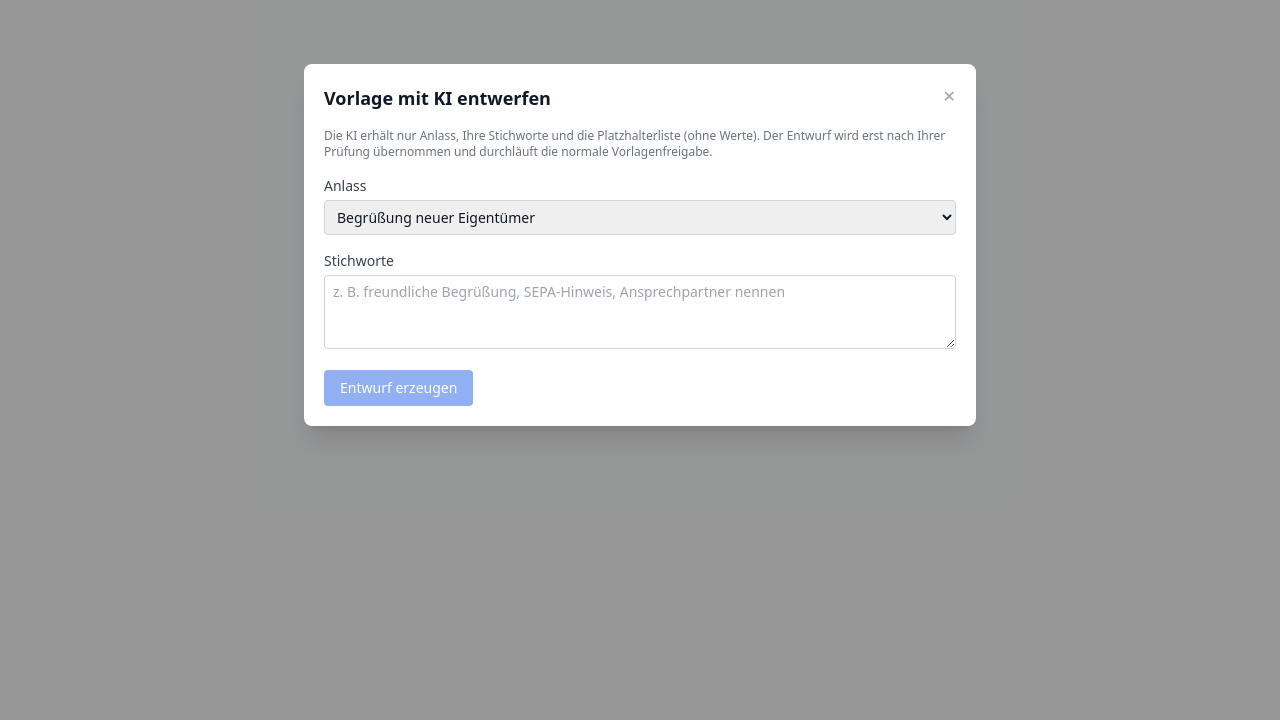
KiAssistentDialog — Mit KI entwerfen › verwirft Blöcke ohne gültige Struktur und weist darauf hin
Type "x" into the text box labelled "Stichworte".
click(640, 312); type("x")  # box [324,275,956,349]
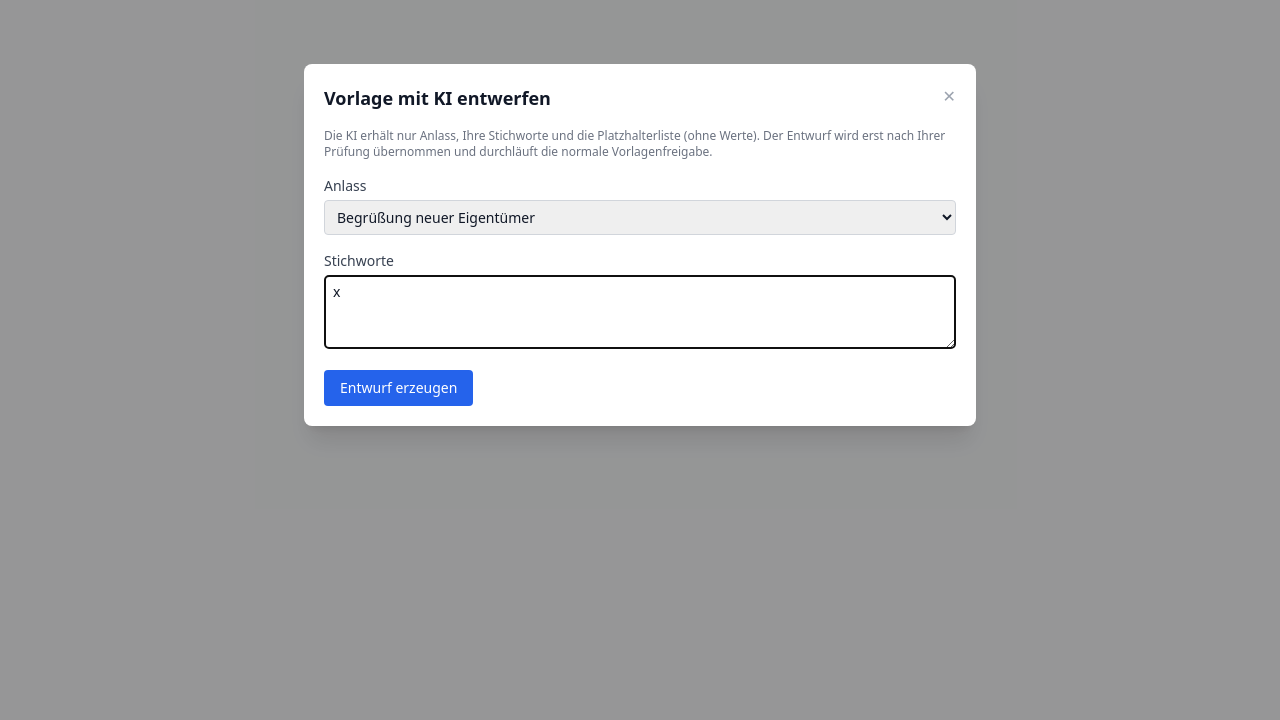
Click the button "Entwurf erzeugen".
click(399, 388)  # box [324,370,473,406]
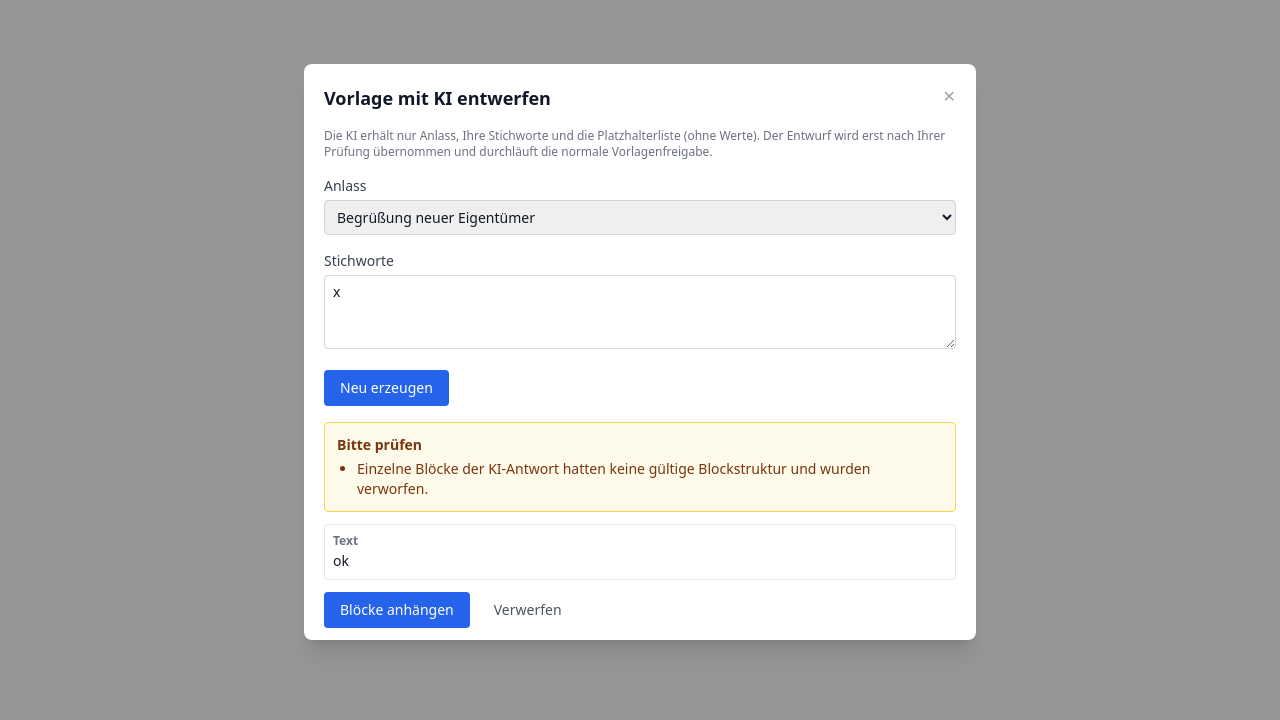
Expected: the list item "keine gültige Blockstruktur" is shown, [357,459,870,498]
